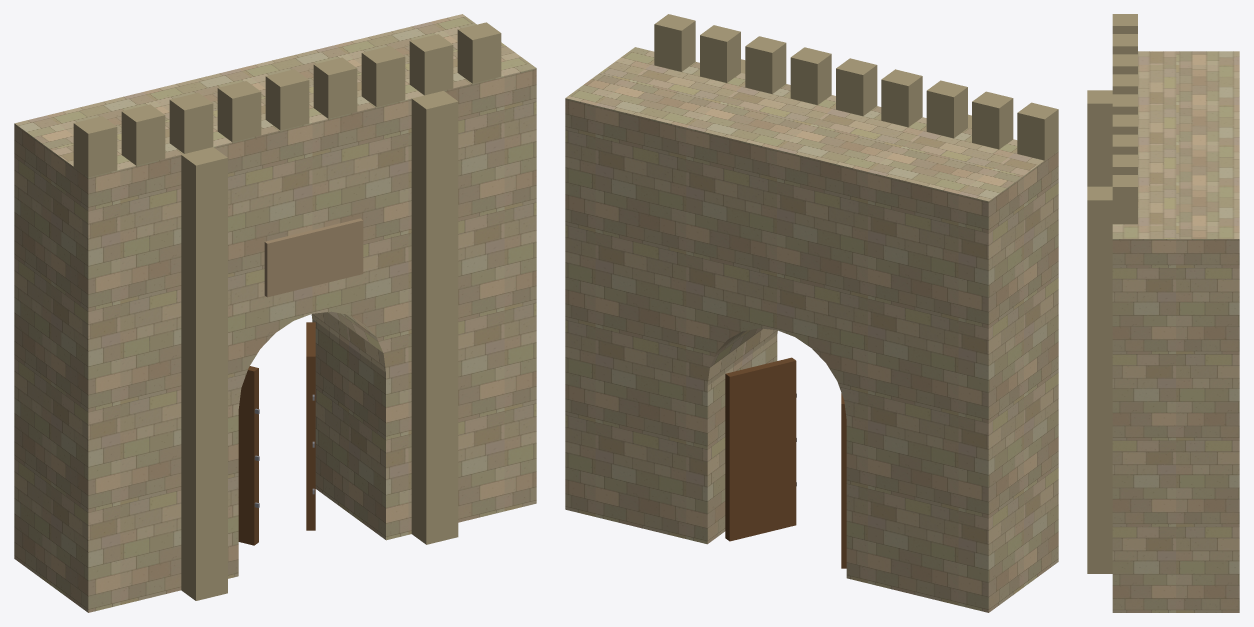
The model's file is derbent_city_gate.glb.
3 views of the same model, side by side, from view 1: azimuth 30°, elevation 25°; view 2: azimuth 150°, elevation 25°; view 3: azimuth 270°, elevation 25° (orthographic). The views are drawn at different scales.
Visible parts, largest first — view 1: Derbent_City_Gate; view 2: Derbent_City_Gate; view 3: Derbent_City_Gate.
Part boxes in pixels (bbox=[...]): Derbent_City_Gate: bbox=[14, 14, 536, 612]; Derbent_City_Gate: bbox=[565, 14, 1058, 612]; Derbent_City_Gate: bbox=[1087, 14, 1239, 612].
Bounding box in the file's own units: 14 × 14.3 × 4.8.
Materials: 4 (3 with a texture image).
